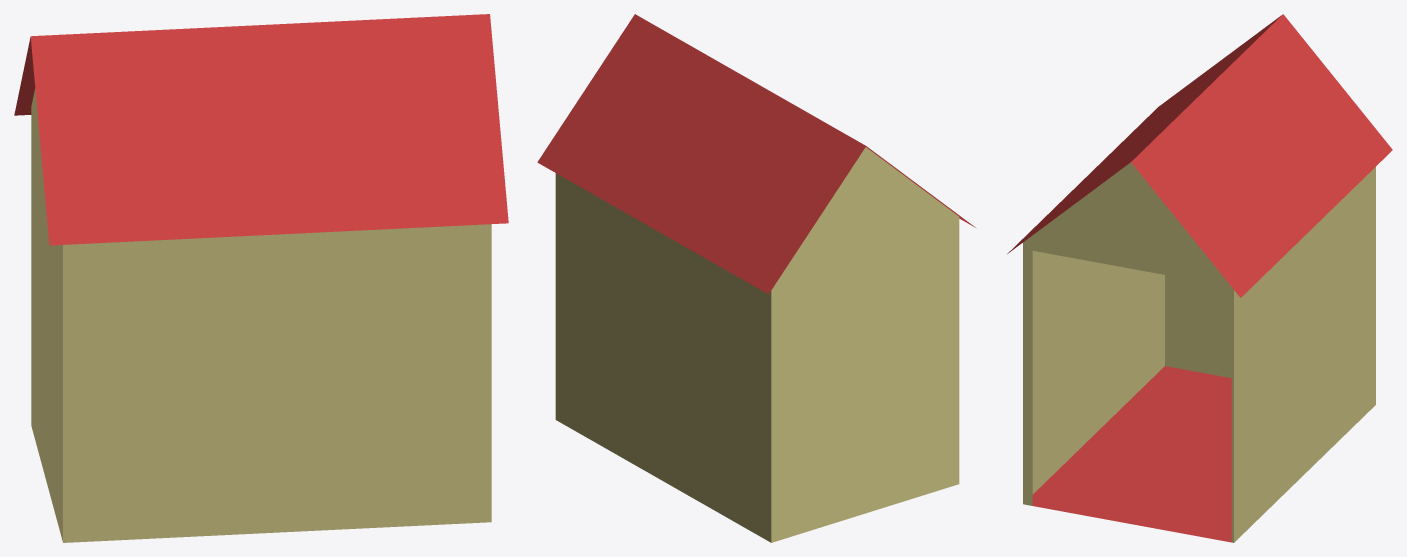
3 views of the same model, side by side, from view 1: azimuth 30°, elevation 25°; view 2: azimuth 150°, elevation 25°; view 3: azimuth 270°, elevation 25° (orthographic). The views are drawn at different scales.
Size of the model in its own units: 17.61 by 15.06 by 15.8.
